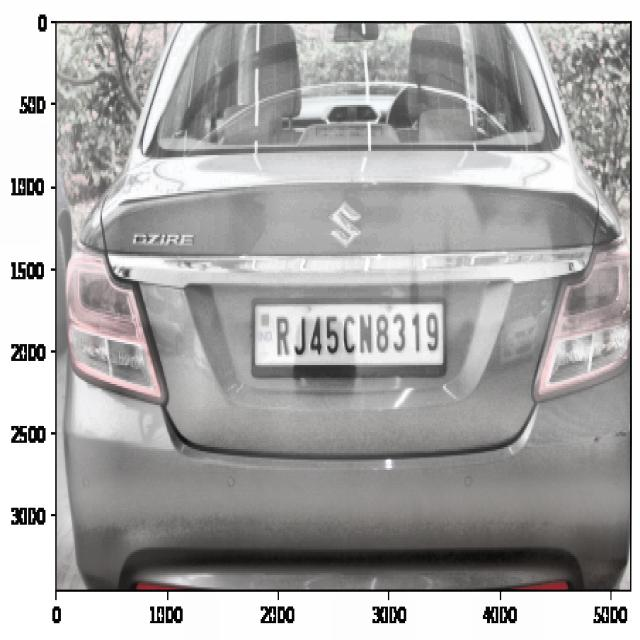license_plate: (264, 301, 446, 370)
